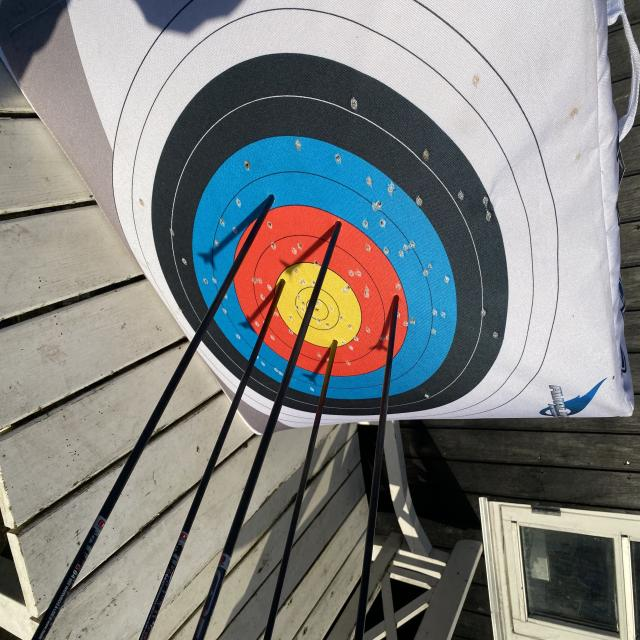Arrow_Blue: (258, 182, 282, 221)
Arrow_Red: (323, 212, 347, 238), (385, 284, 405, 312)
Arrow_Yellow: (267, 266, 293, 300), (326, 332, 348, 370)
